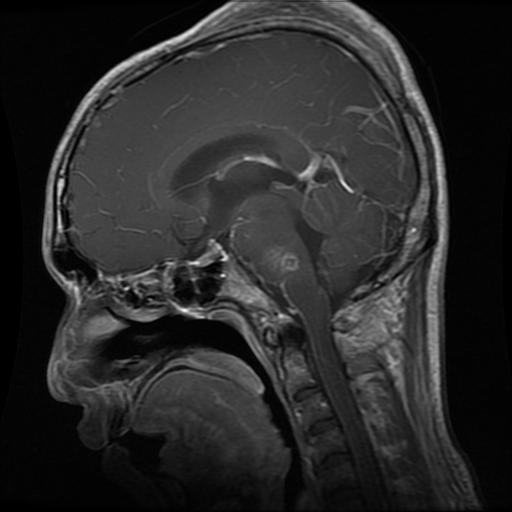Gliomia_tumour: (263, 245, 298, 276)
